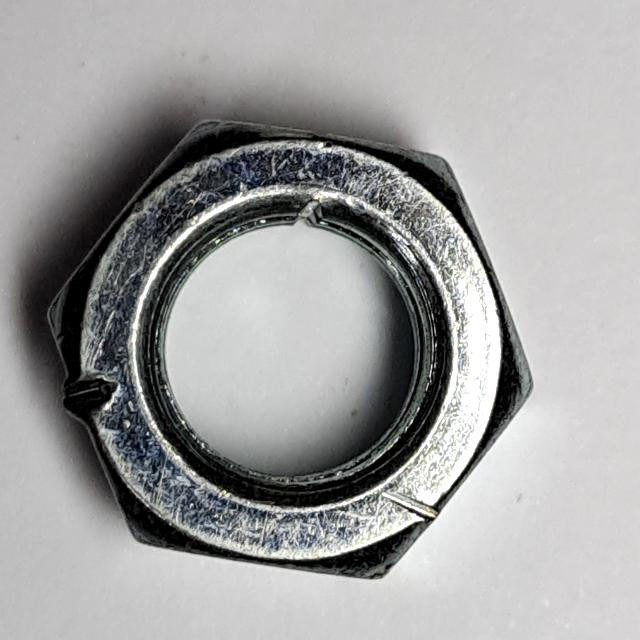Scratches: (36, 102, 545, 600)
